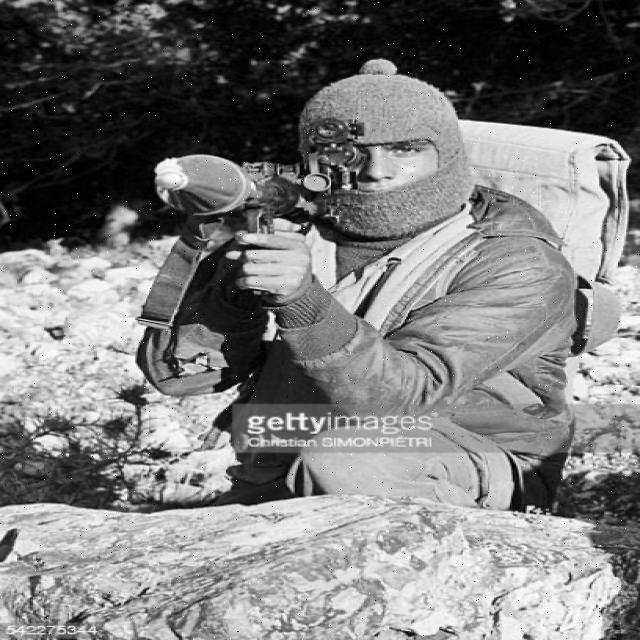bazooka: (150, 150, 320, 229)
